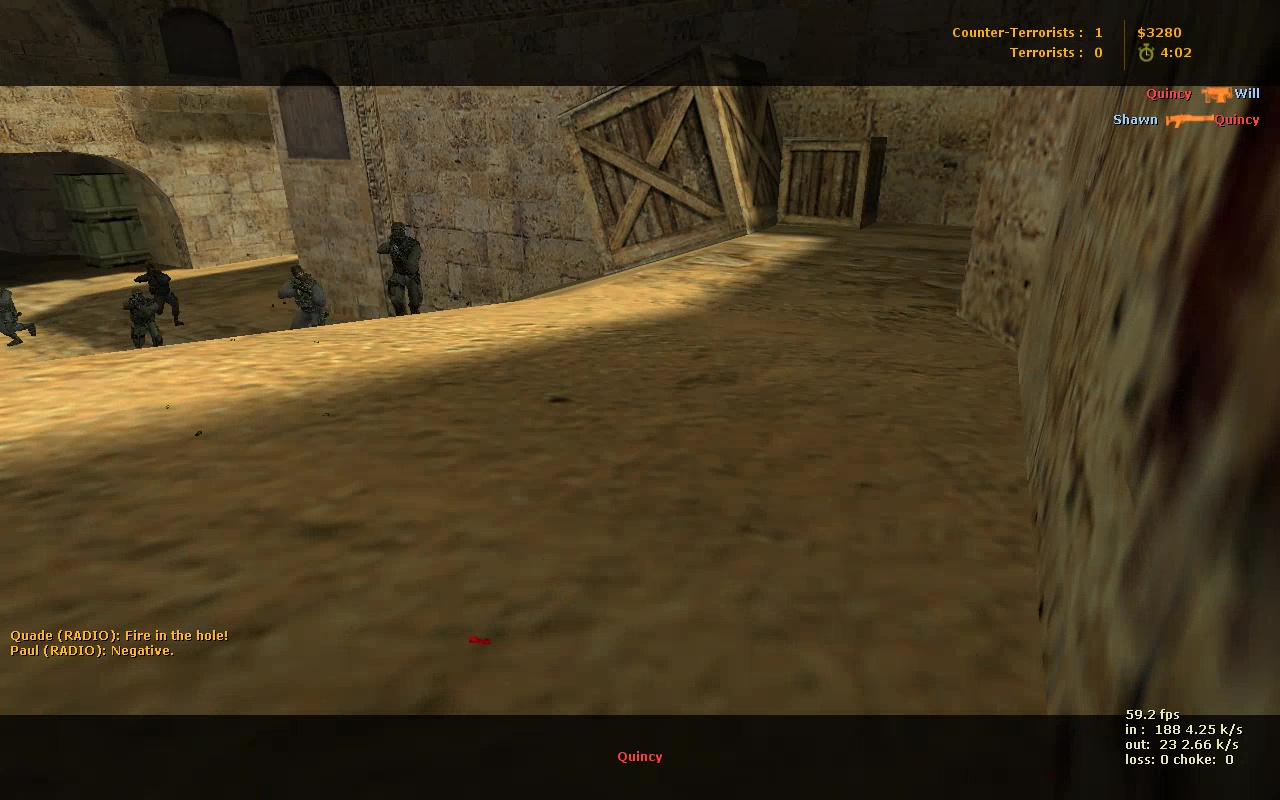ct: (377, 220, 426, 320), (134, 262, 189, 327), (279, 269, 329, 332), (124, 291, 163, 349)
